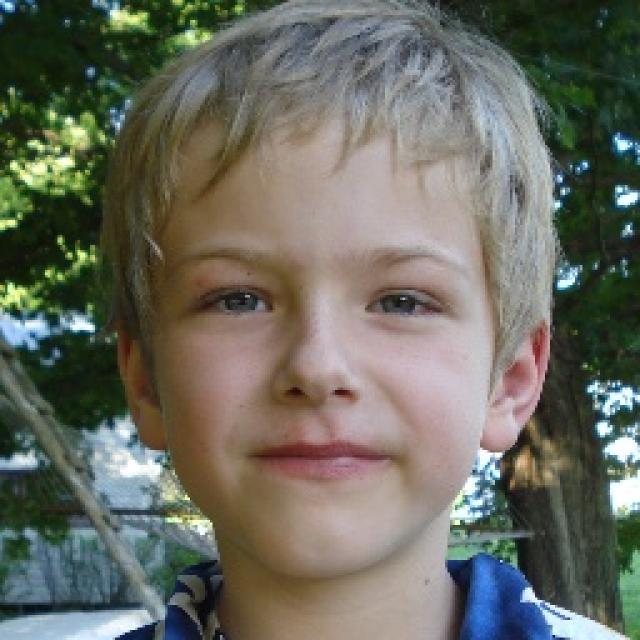earlobe: (480, 400, 531, 454), (132, 404, 168, 451)
eye: (362, 288, 445, 318), (202, 290, 277, 318)
nose: (272, 389, 366, 431)
wholeear: (479, 309, 551, 452), (116, 321, 166, 451)
